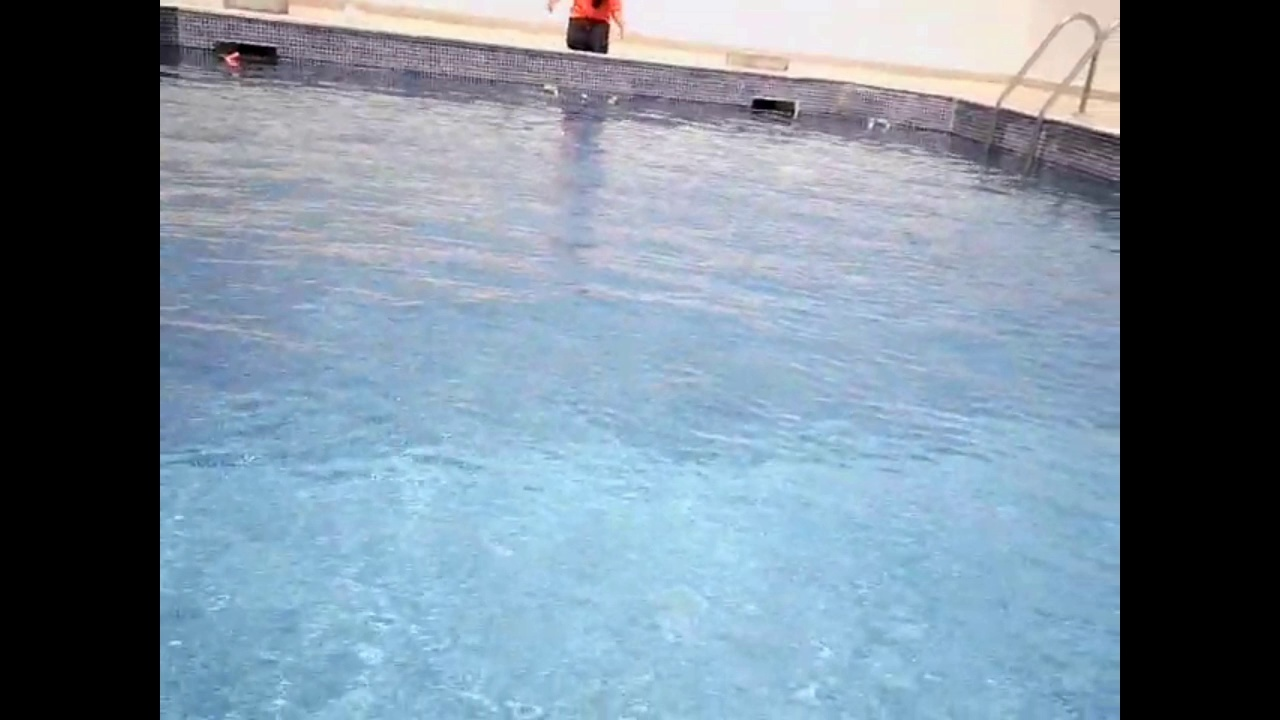debris: (212, 46, 248, 70), (861, 111, 893, 132), (536, 79, 562, 100), (601, 88, 625, 110), (572, 87, 591, 108), (865, 114, 879, 131)
